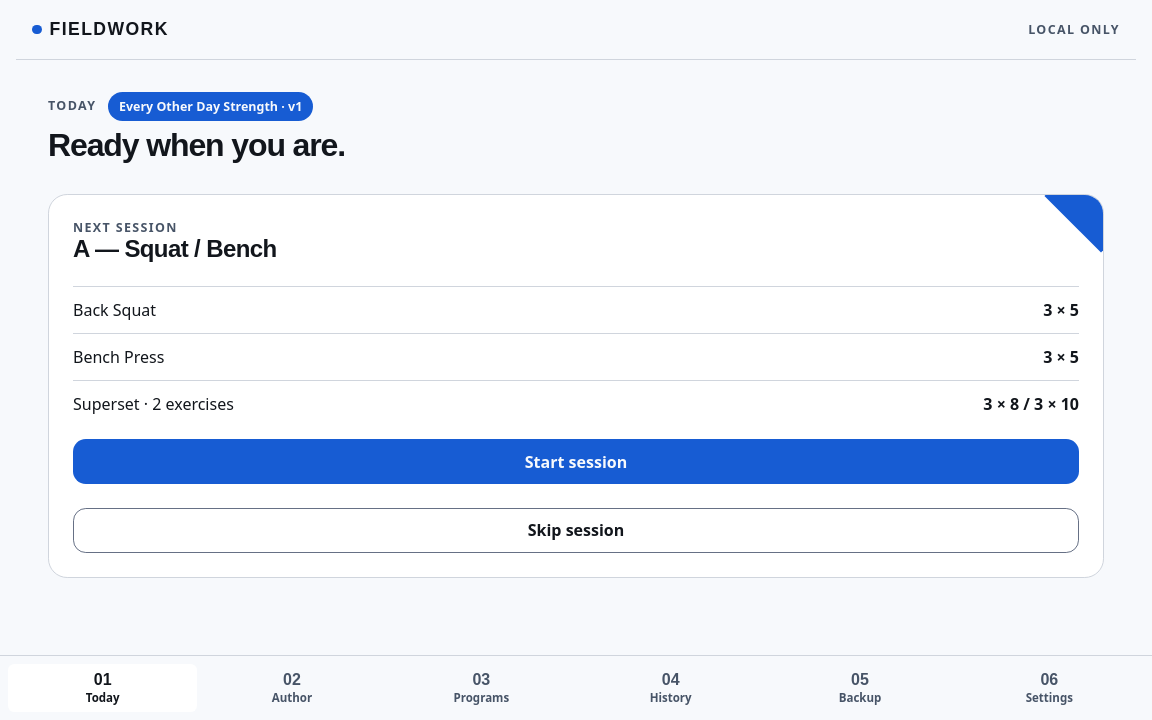
it: records the entire next session as skipped and advances the rotation
Check: the heading "A — Squat / Bench" is shown, box [73,236,277,262]
Step 1. Click the button "Skip session" → (576, 530), box [73,508,1079,553]
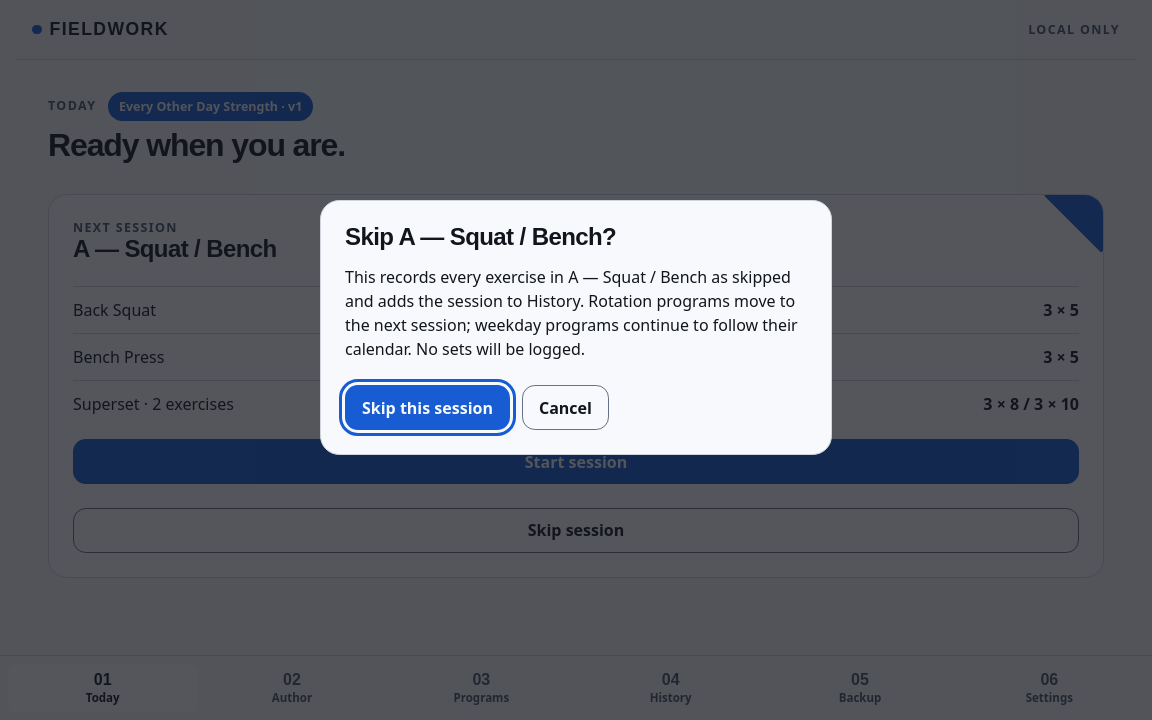
Check: the dialog "Skip A — Squat / Bench?" is shown, box [320,200,832,455]
Step 2. Click the button "Skip this session" → (428, 408), box [345,386,510,430]
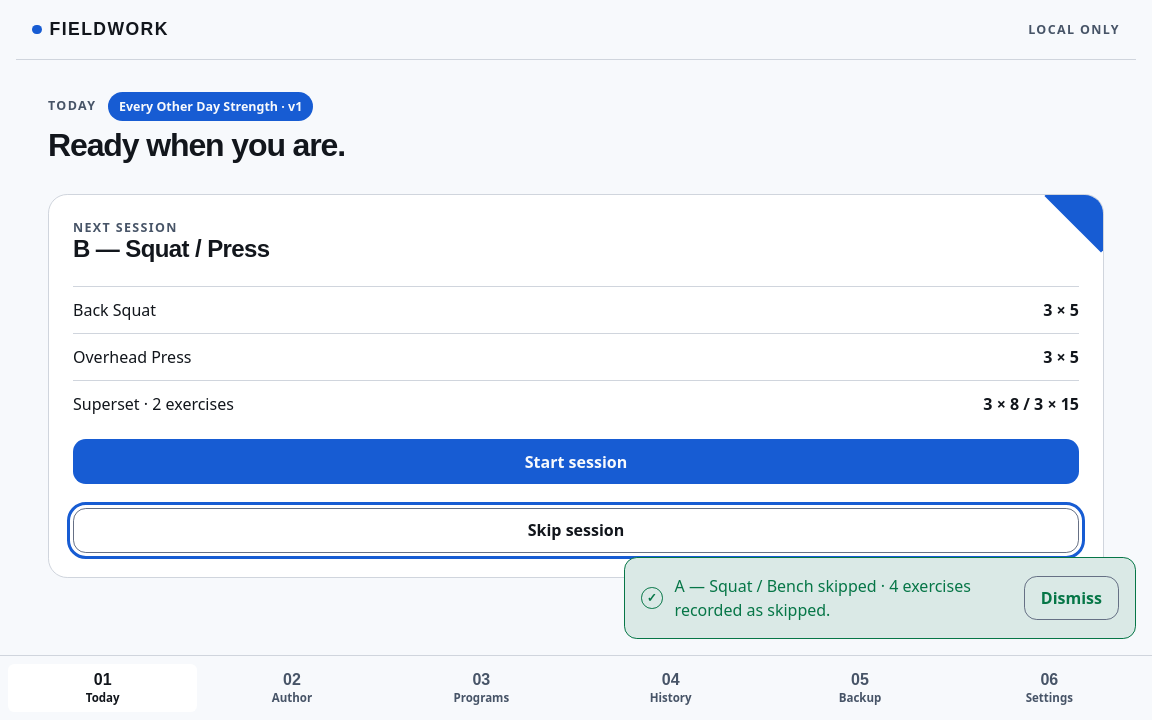
Check: the heading "B — Squat / Press" is shown, box [73,236,270,262]
Check: the element with class "global-feedback-success" shows "A — Squat / Bench skipped · 4 exercises recorded as skipped.", box [675,575,971,621]
